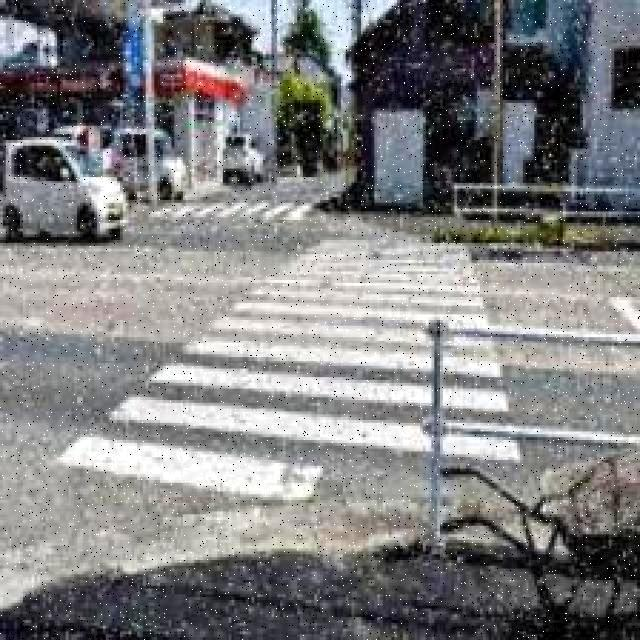crosswalk: (2, 232, 598, 639)
